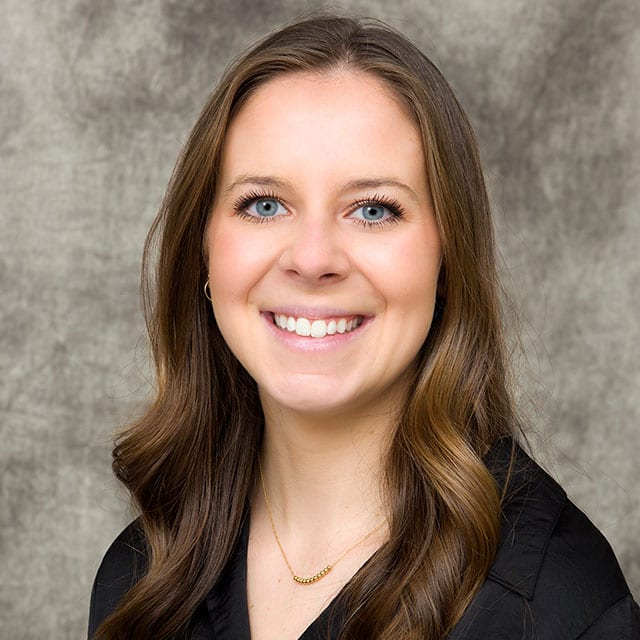human: (201, 66, 457, 416)
